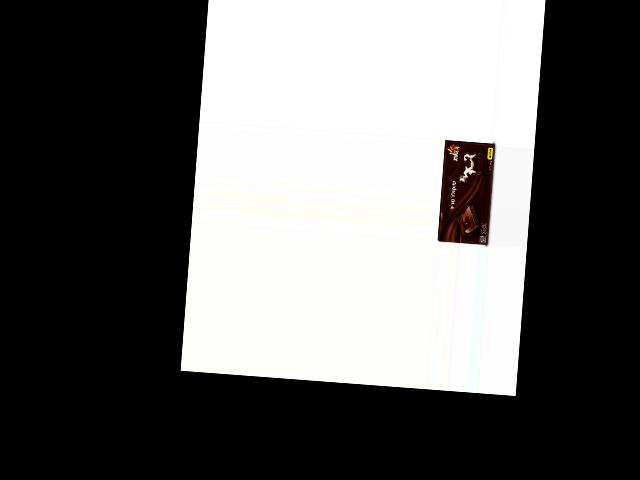chocolate: (436, 137, 495, 244)
